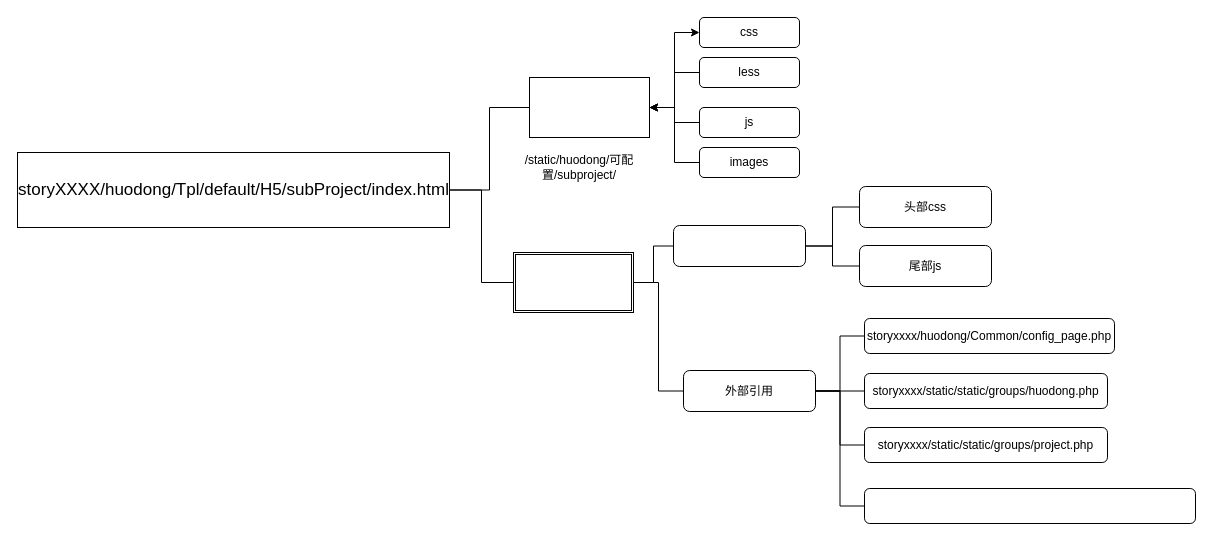
Some shapes in this 1213 by 541 pixel diagram are drawn without their labels. The shapes that lost their labels are listed below. From the top down, each one's centre as x and y in pixels, then its label:
At point (589, 107): "生成静态文件".
At point (739, 245): "内部引用".
At point (573, 282): "写入配置文件".
At point (1030, 506): "storyxxxx/project/Lib/Action/H5/SubprojectAction.class.php".
